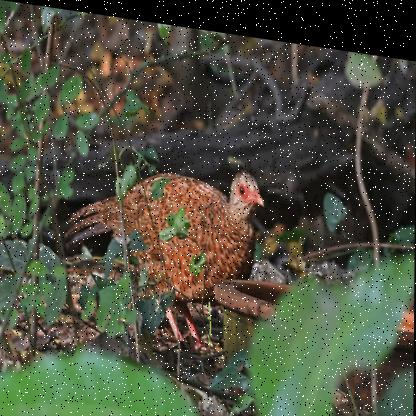Burung: (62, 145, 266, 346)
